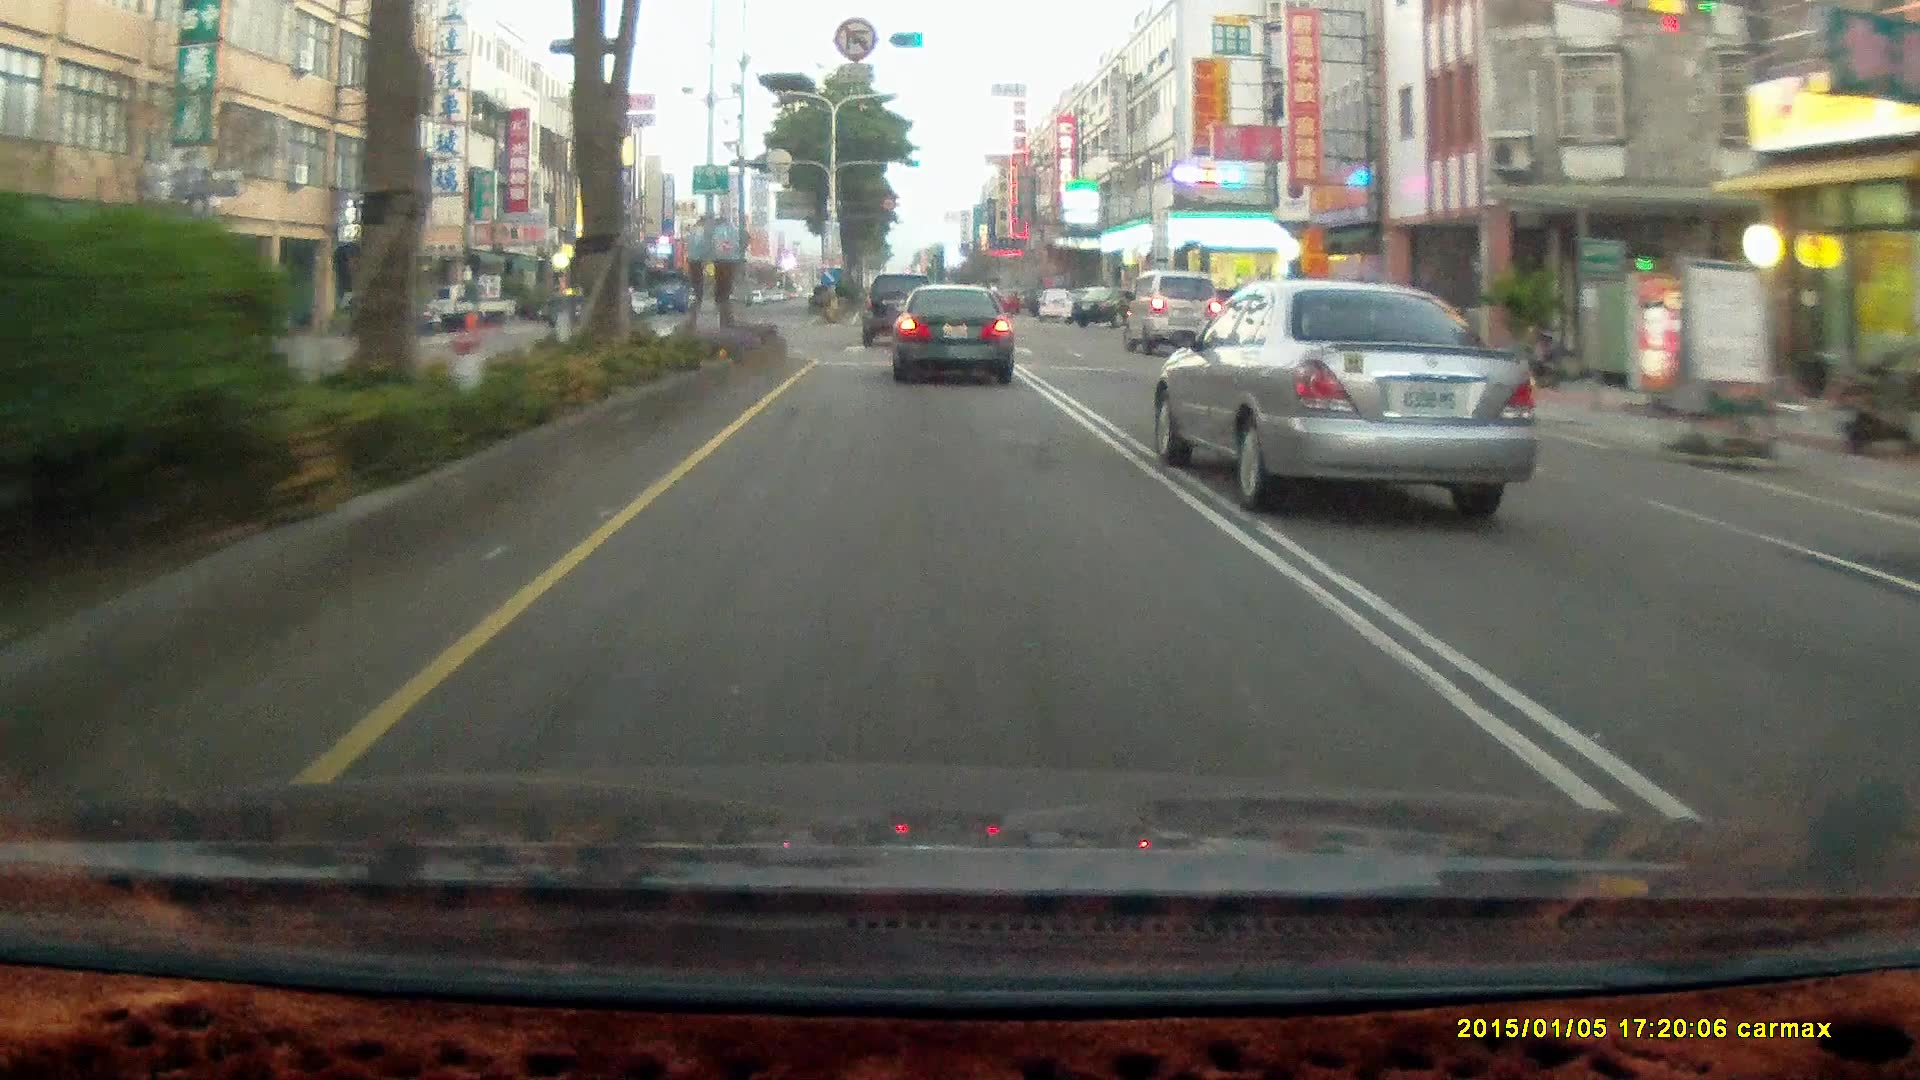vehicle: (1158, 281, 1553, 514), (895, 284, 1017, 386), (891, 284, 1011, 385), (1124, 268, 1220, 357), (1124, 269, 1221, 357), (861, 272, 940, 349), (861, 272, 938, 344), (425, 286, 518, 334), (423, 280, 514, 328), (1073, 284, 1145, 324), (1036, 286, 1076, 320)
